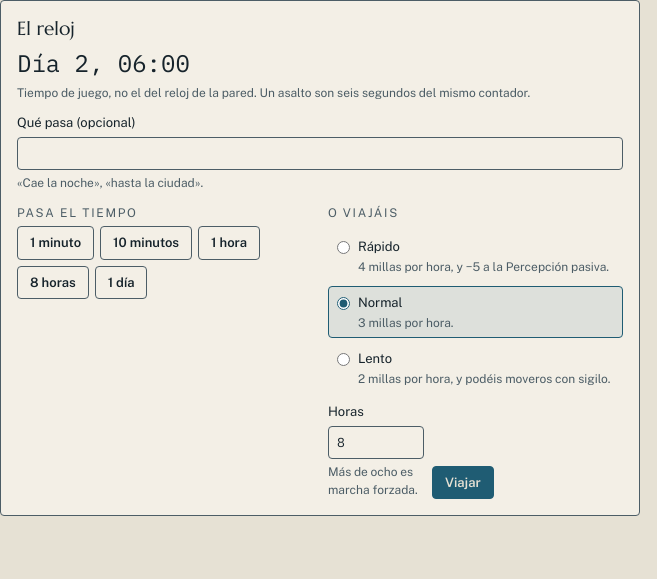
Scenario: las salvaciones de marcha forzada se piden › sin salvaciones no se pinta el botón: no hay nada que pedir
Step 1. Click the button "Viajar" → (463, 483), box [432, 466, 494, 499]
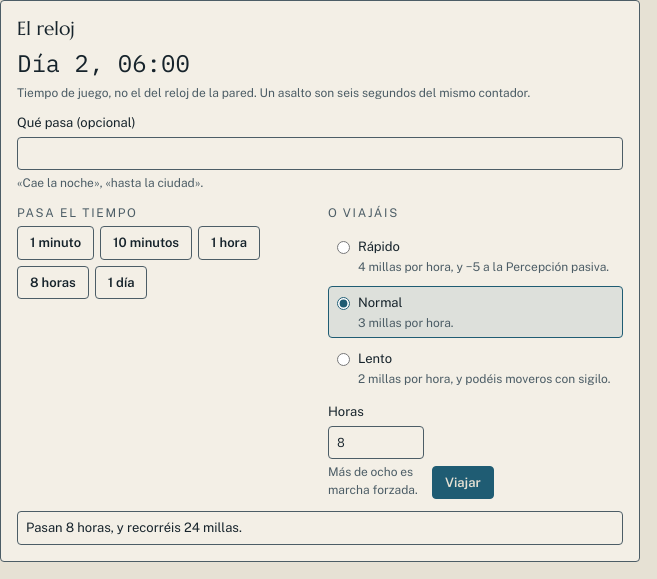
Now the message "Pasan 8 horas, y recorréis 24 millas." is shown, box [17, 511, 623, 545]
